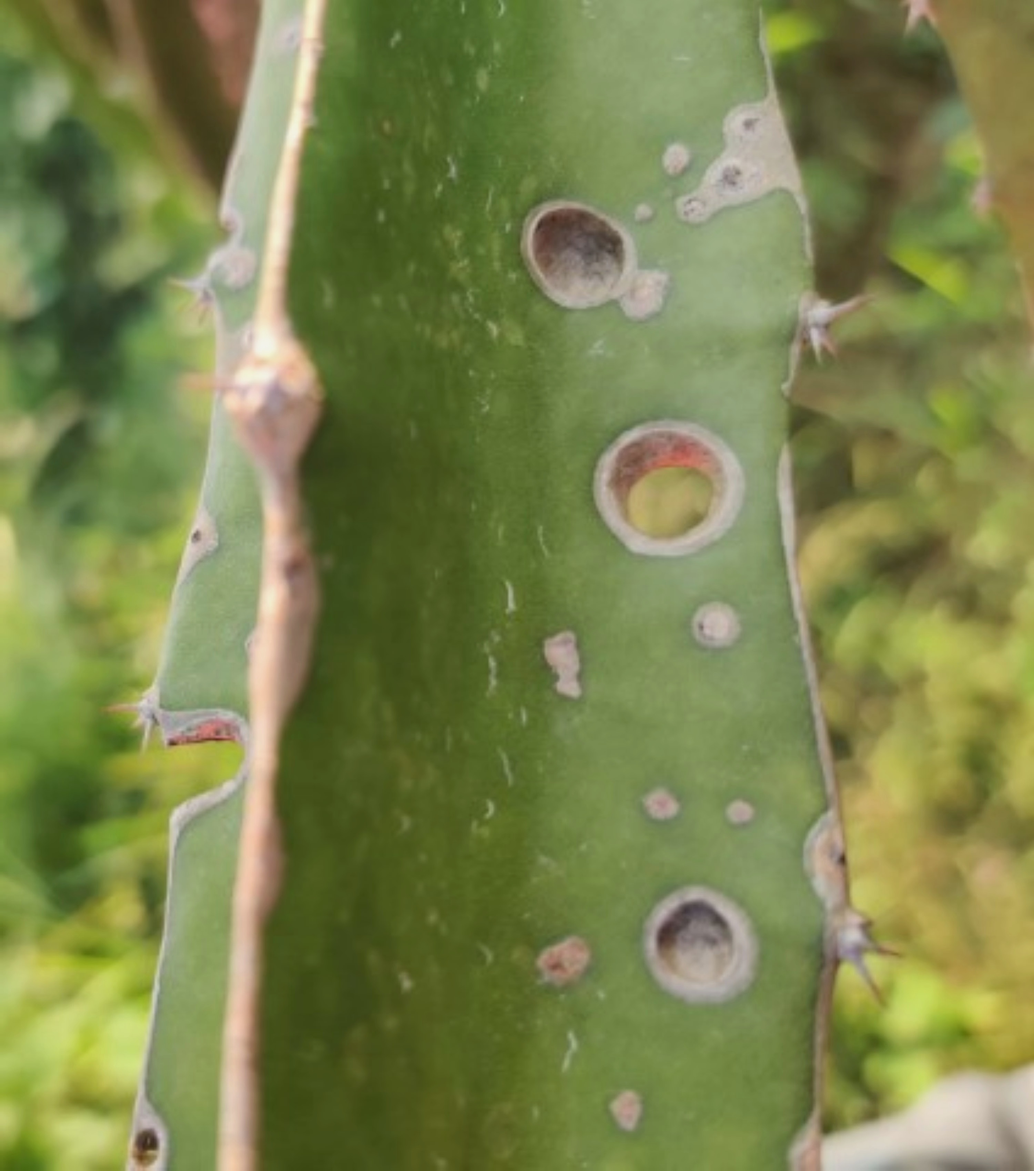stemcanker: (379, 86, 948, 1072)
